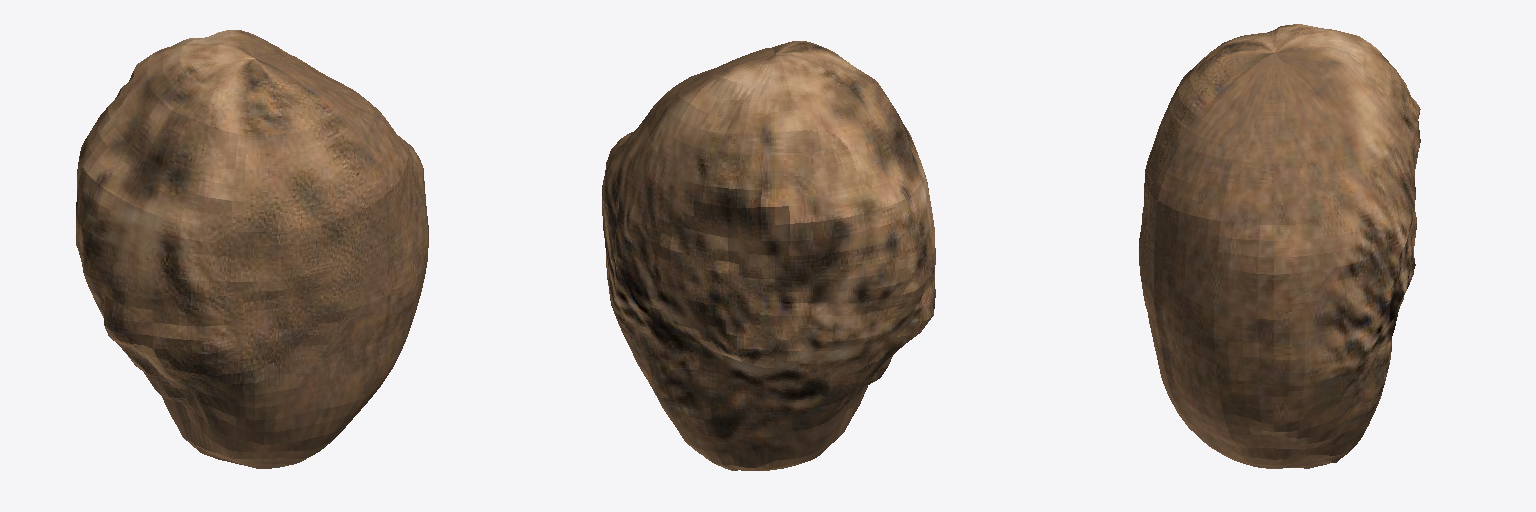
3 renders of one model, left to right at view 1: azimuth 30°, elevation 25°; view 2: azimuth 150°, elevation 25°; view 3: azimuth 270°, elevation 25°, orthographic.
Parts seen in each view (by area): view 1: Object_1; view 2: Object_1; view 3: Object_1.
Part boxes in pixels (bbox=[...]): Object_1: bbox=[76, 30, 428, 468]; Object_1: bbox=[602, 41, 935, 470]; Object_1: bbox=[1139, 24, 1420, 468].
Bounding box in the file's own units: 276 × 342 × 209.
1 materials, 1 textured.